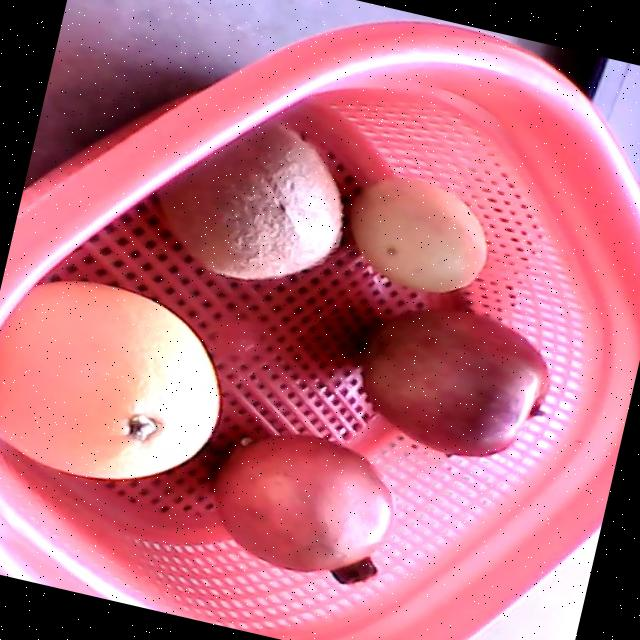apple: (359, 308, 549, 457)
kiwi: (154, 119, 341, 279)
lemon: (349, 177, 487, 292)
orange: (0, 280, 219, 480)
pomegranate: (213, 433, 395, 584)
